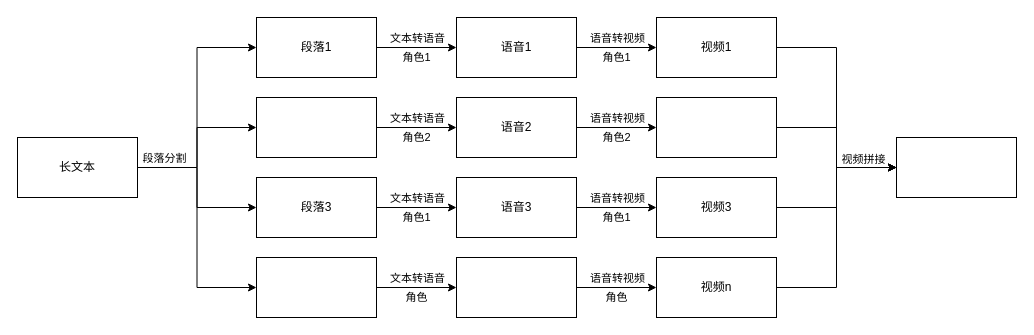
Image size: 1034x335. Some labels were removed from this diagram. Each missing label, with the box of its shape:
总视频: (896, 136, 1016, 198)
段落2: (256, 96, 376, 158)
段落n: (256, 256, 376, 318)
视频2: (656, 96, 776, 158)
语音n: (456, 256, 576, 318)
